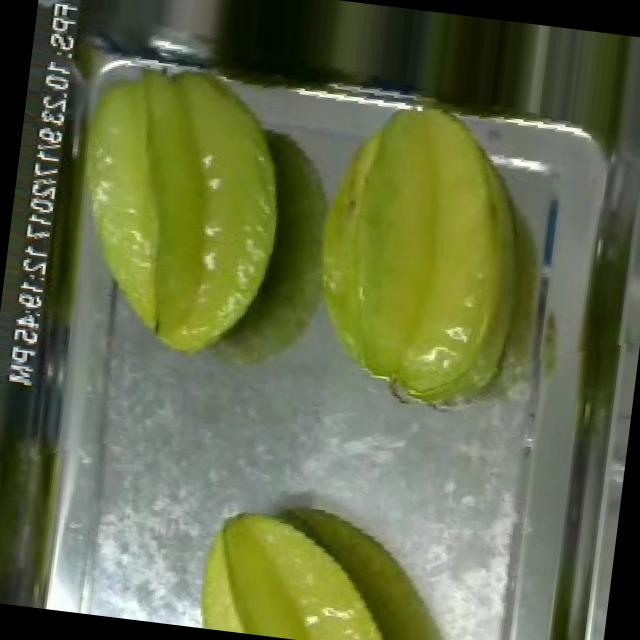fruit: (276, 80, 560, 430), (42, 41, 308, 374), (185, 494, 425, 640)
